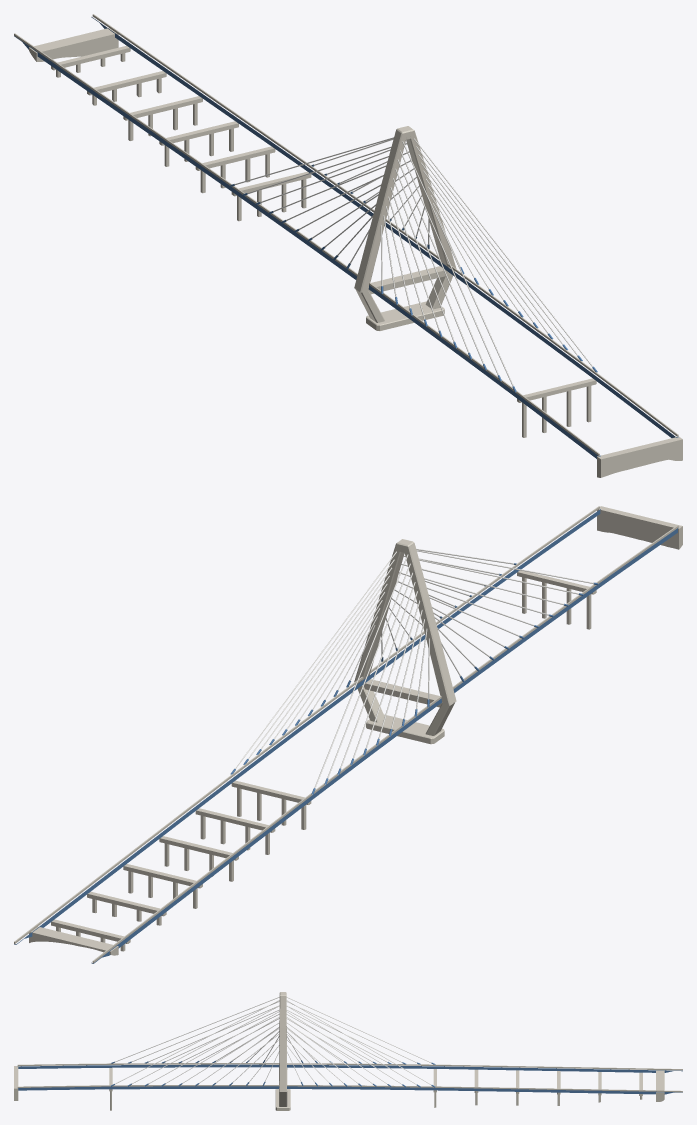
The model's file is kc-bond-bridge.detail.glb.
3 renders of one model, top to bottom at view 1: azimuth 30°, elevation 25°; view 2: azimuth 150°, elevation 25°; view 3: azimuth 270°, elevation 25°, orthographic. The views are drawn at different scales.
Visible parts, largest first — view 1: Christopher S. Bond Bridge; view 2: Christopher S. Bond Bridge; view 3: Christopher S. Bond Bridge.
Part boxes in pixels (bbox=[...]): Christopher S. Bond Bridge: bbox=[14, 14, 682, 477]; Christopher S. Bond Bridge: bbox=[14, 506, 682, 963]; Christopher S. Bond Bridge: bbox=[14, 992, 682, 1110].
Bounding box in the file's own units: 50.8 × 95.4 × 536.
